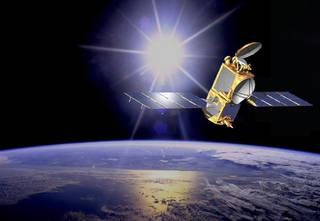antenna: (229, 76, 257, 106), (234, 40, 263, 59)
body: (201, 59, 257, 127)
solar: (121, 88, 218, 109), (243, 90, 316, 108), (217, 102, 243, 122)
